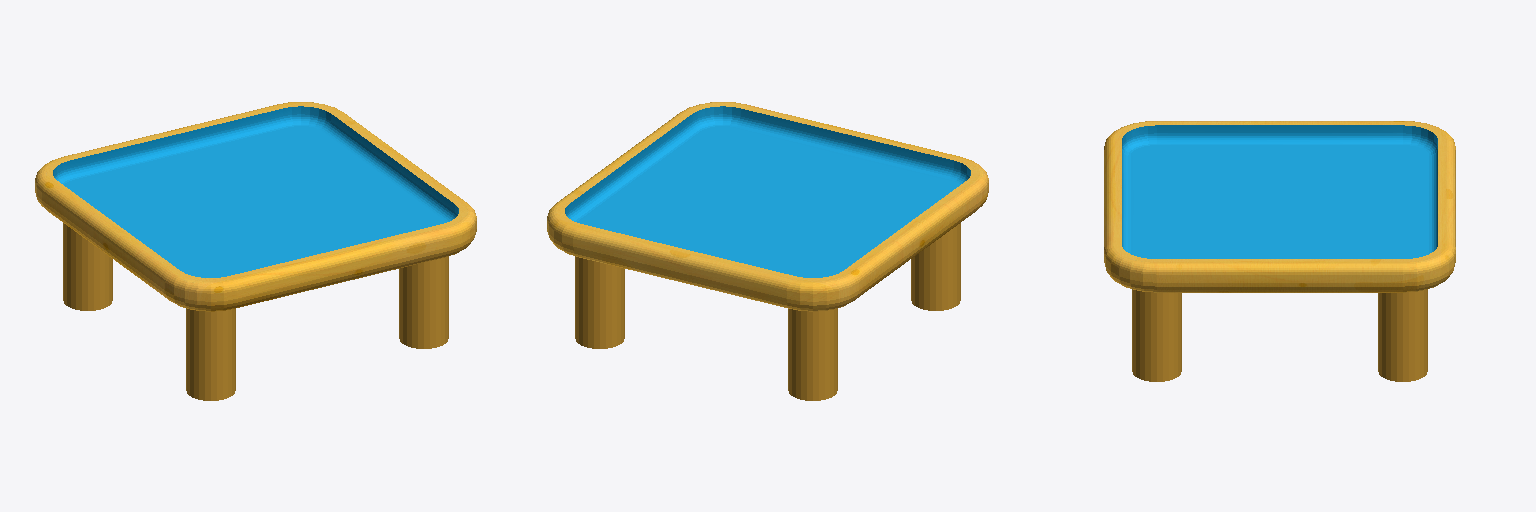
The picture shows the model from 3 angles: view 1: azimuth 30°, elevation 25°; view 2: azimuth 150°, elevation 25°; view 3: azimuth 270°, elevation 25°; orthographic projection.
Visible parts, largest first — view 1: desk_polySurface3; view 2: desk_polySurface3; view 3: desk_polySurface3.
Boxes of the visible parts, x1,y1,x2,y2 form: desk_polySurface3: [35, 102, 476, 400]; desk_polySurface3: [547, 102, 988, 400]; desk_polySurface3: [1104, 121, 1455, 381].
Bounding box in the file's own units: 394 × 157 × 394.
Materials: 1 (1 with a texture image).